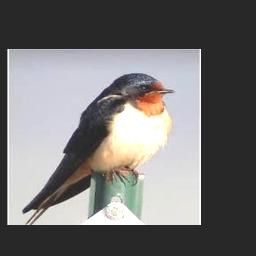Swallow: (21, 72, 175, 225)
